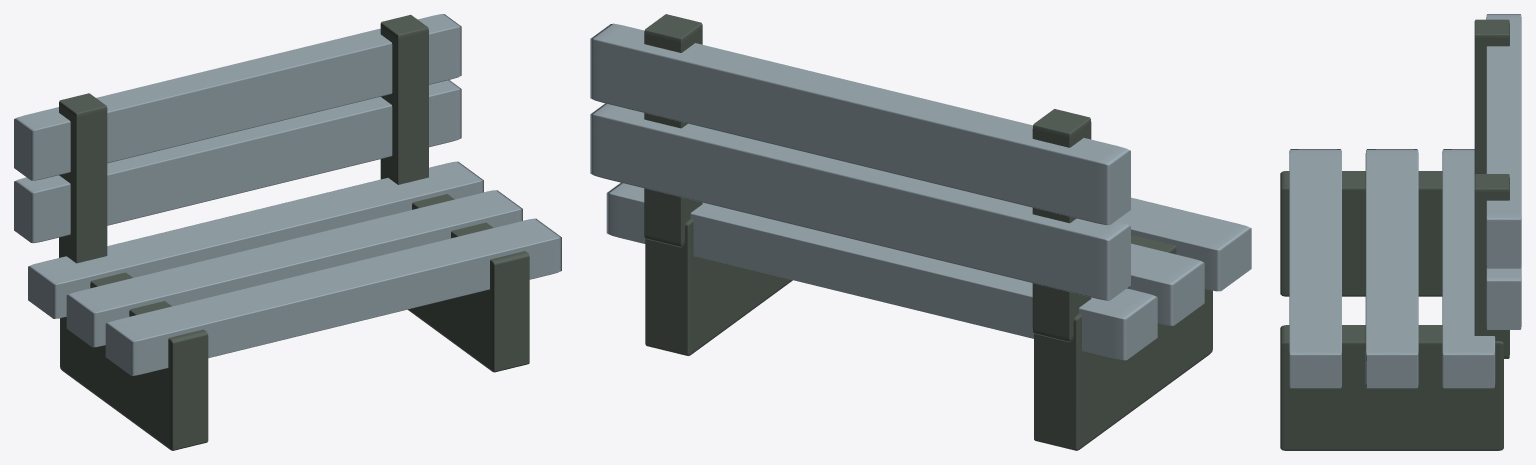
File: bench-2.glb
The picture shows the model from 3 angles, left to right: view 1: azimuth 30°, elevation 25°; view 2: azimuth 150°, elevation 25°; view 3: azimuth 270°, elevation 25°; orthographic projection. The views are drawn at different scales.
Parts seen in each view (by area): view 1: bench-2-0; view 2: bench-2-0; view 3: bench-2-0.
Part boxes in pixels (bbox=[...]): bench-2-0: bbox=[14, 14, 561, 450]; bench-2-0: bbox=[590, 14, 1251, 450]; bench-2-0: bbox=[1280, 14, 1521, 450].
Size of the model in its own units: 0.83 by 0.4905 by 0.41.
